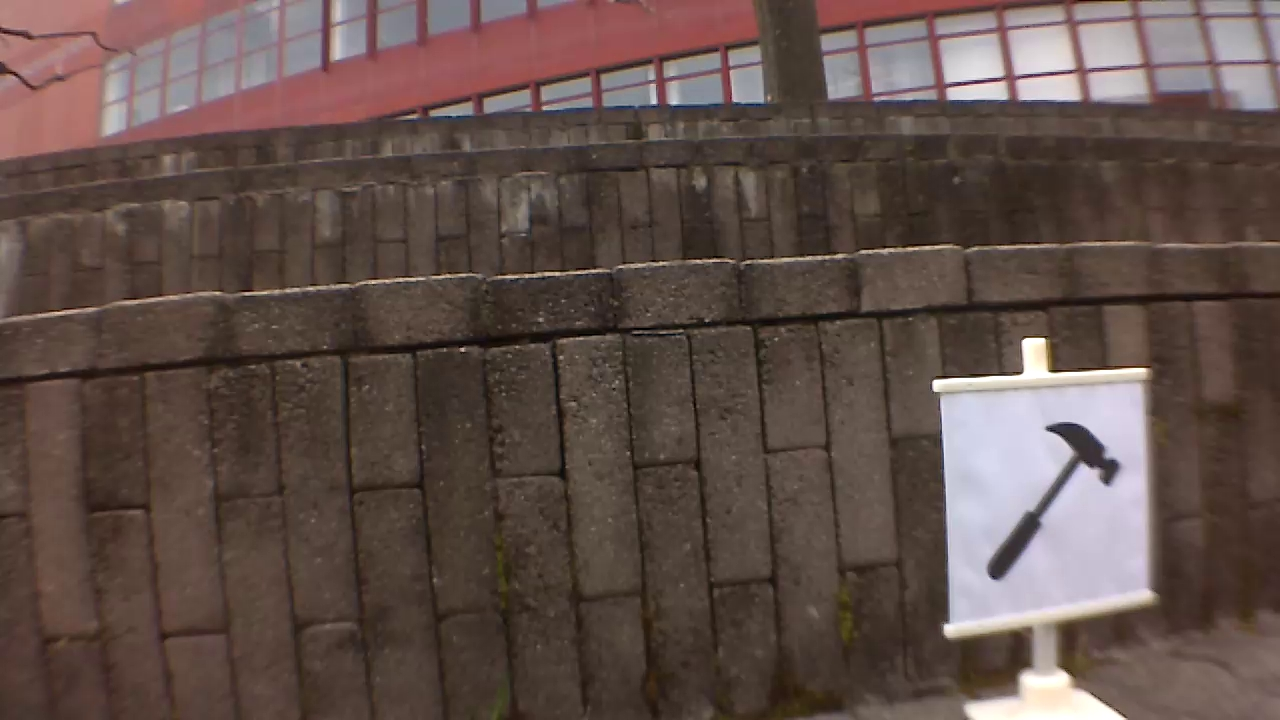hammer: (984, 417, 1126, 581)
